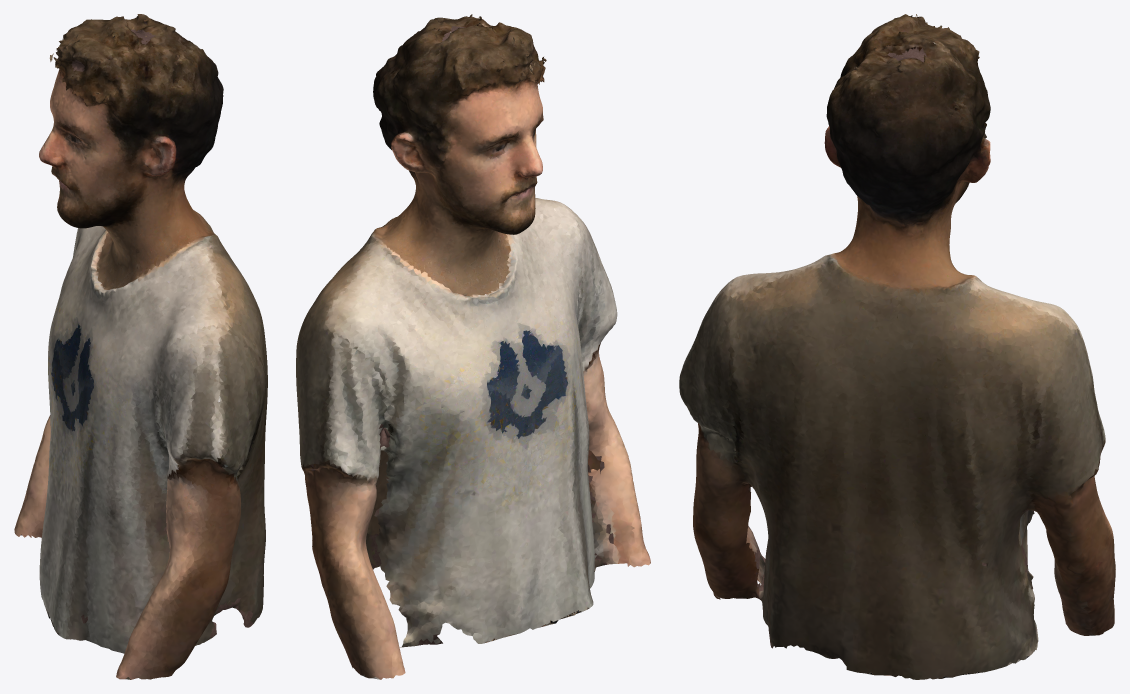
Rendered from juan.glb.
3 views of the same model, side by side, from view 1: azimuth 30°, elevation 25°; view 2: azimuth 150°, elevation 25°; view 3: azimuth 270°, elevation 25° (orthographic). The views are drawn at different scales.
Parts seen in each view (by area): view 1: juan; view 2: juan; view 3: juan.
Part boxes in pixels (x1,y1,x2,y2): juan: (14,14,267,679); juan: (296,14,650,679); juan: (679,14,1115,679).
Bounding box in the file's own units: 1.24 × 3.26 × 2.19.
Materials: 62 (62 with a texture image).
